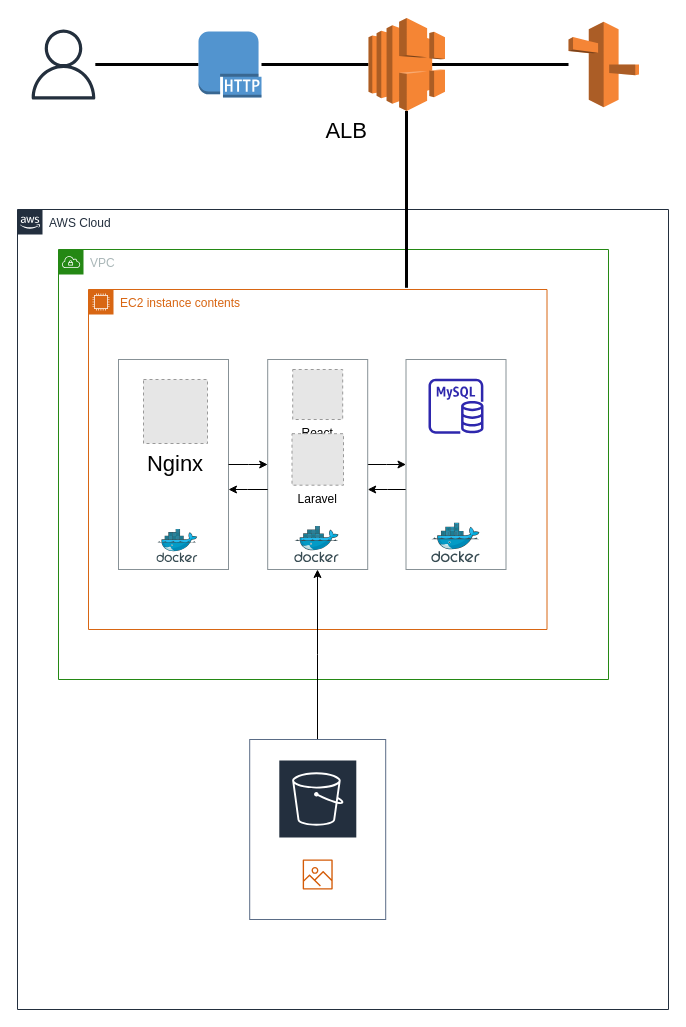
Some shapes in this 686 by 1027 pixel diagram are drawn without their labels. Grey dashed boxes stand in for pictures. The shapes that lost their labels are listed below. From the top down, each one's box as (x1, y1, x2, y2) in pixels, then its label:
(28, 29, 98, 99): User
(568, 21, 639, 107): Route53
(277, 758, 357, 860): Amazon S3
(302, 859, 332, 889): ImageDate
